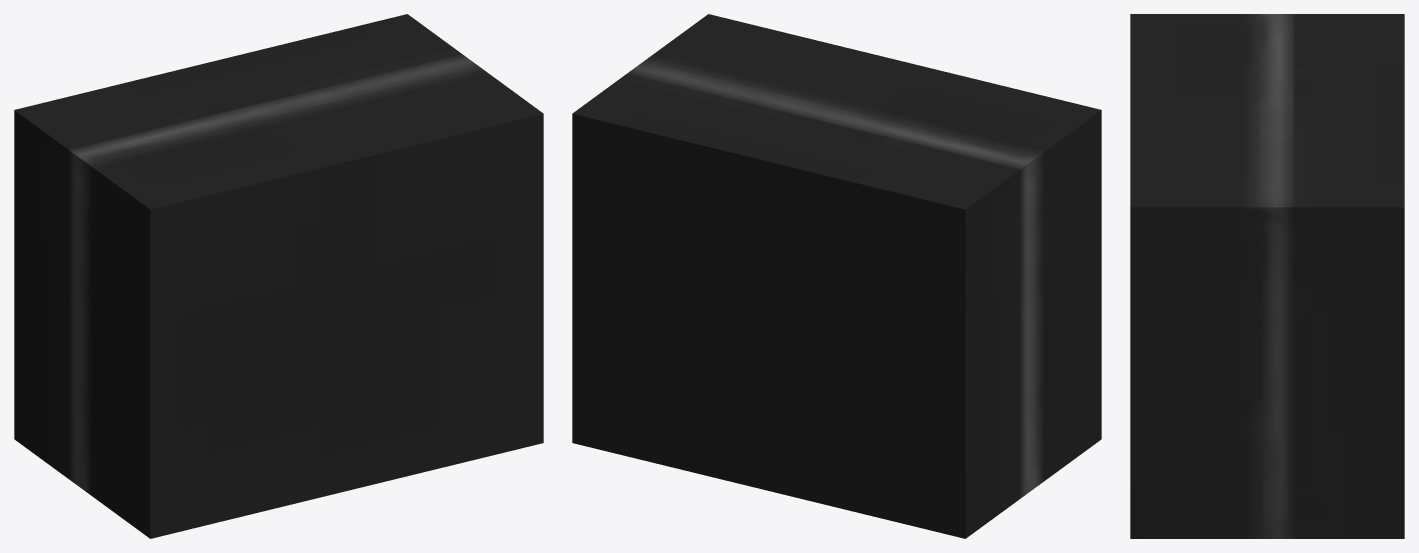
File: release_button__release_stem.glb
The picture shows the model from 3 angles, left to right: view 1: azimuth 30°, elevation 25°; view 2: azimuth 150°, elevation 25°; view 3: azimuth 270°, elevation 25°; orthographic projection.
Parts seen in each view (by area): view 1: geometry_0; view 2: geometry_0; view 3: geometry_0.
Part boxes in pixels (x1,y1,x2,y2): geometry_0: (14,14,543,538); geometry_0: (572,14,1101,538); geometry_0: (1130,14,1404,538).
Bounding box in the file's own units: 0.01 × 0.008 × 0.006.
1 material, 1 textured.
